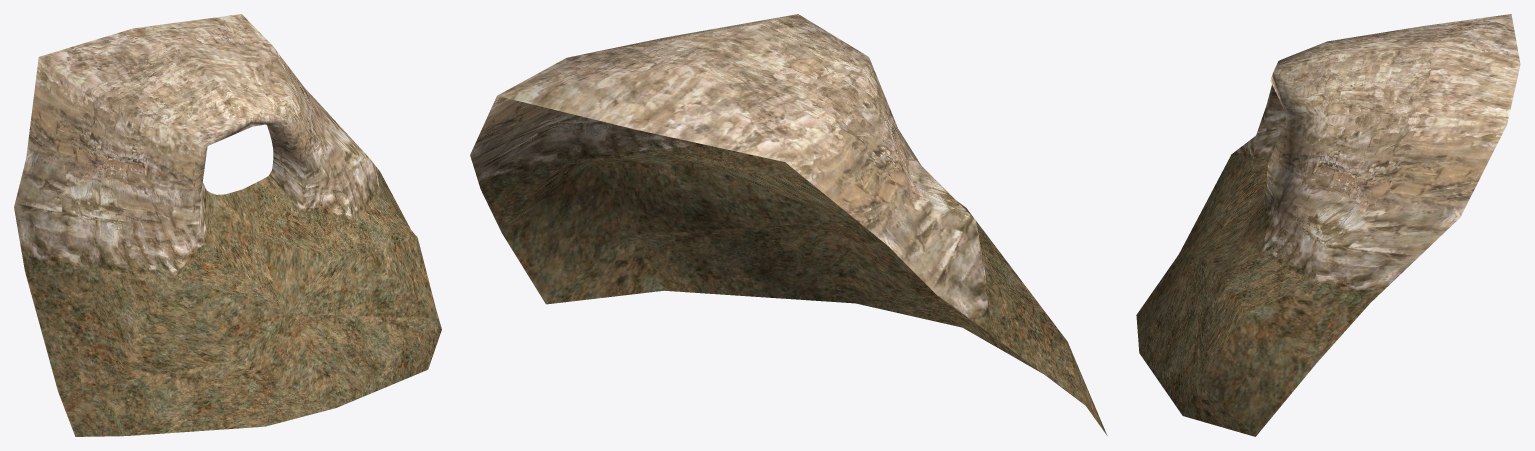
The model's file is thm_all_cave_s01_r0_mesh_l3.fbx.
3 views of the same model, side by side, from view 1: azimuth 30°, elevation 25°; view 2: azimuth 150°, elevation 25°; view 3: azimuth 270°, elevation 25° (orthographic). The views are drawn at different scales.
Visible parts, largest first — view 1: mesh_node; view 2: mesh_node; view 3: mesh_node.
Boxes of the visible parts, <box> form: mesh_node: <box>14,14,441,436</box>; mesh_node: <box>470,14,1107,435</box>; mesh_node: <box>1136,14,1520,436</box>.
Bounding box in the file's own units: 48.32 × 33.74 × 39.28.
